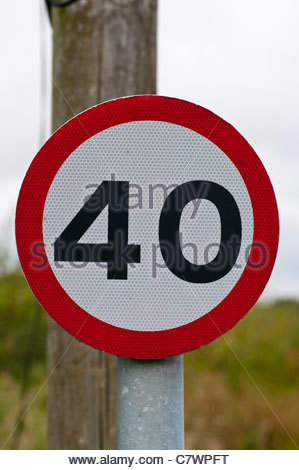Speed_limit_40km: (17, 95, 281, 362)
